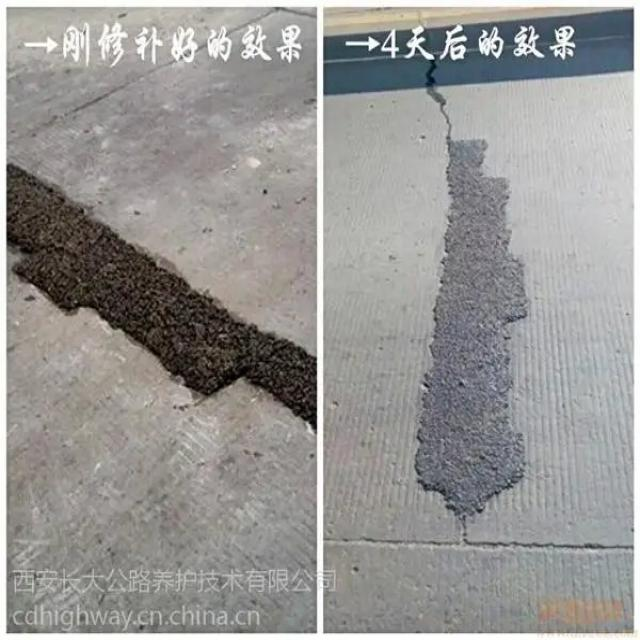Pothole: (23, 174, 318, 442), (415, 128, 535, 520)
